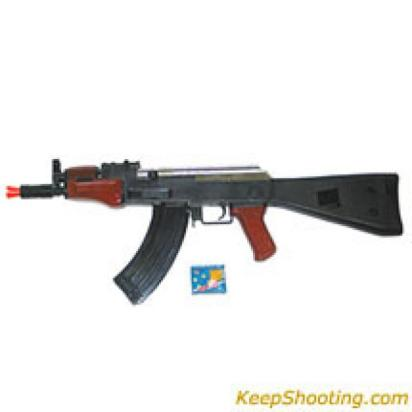Gun: (18, 153, 412, 307)
